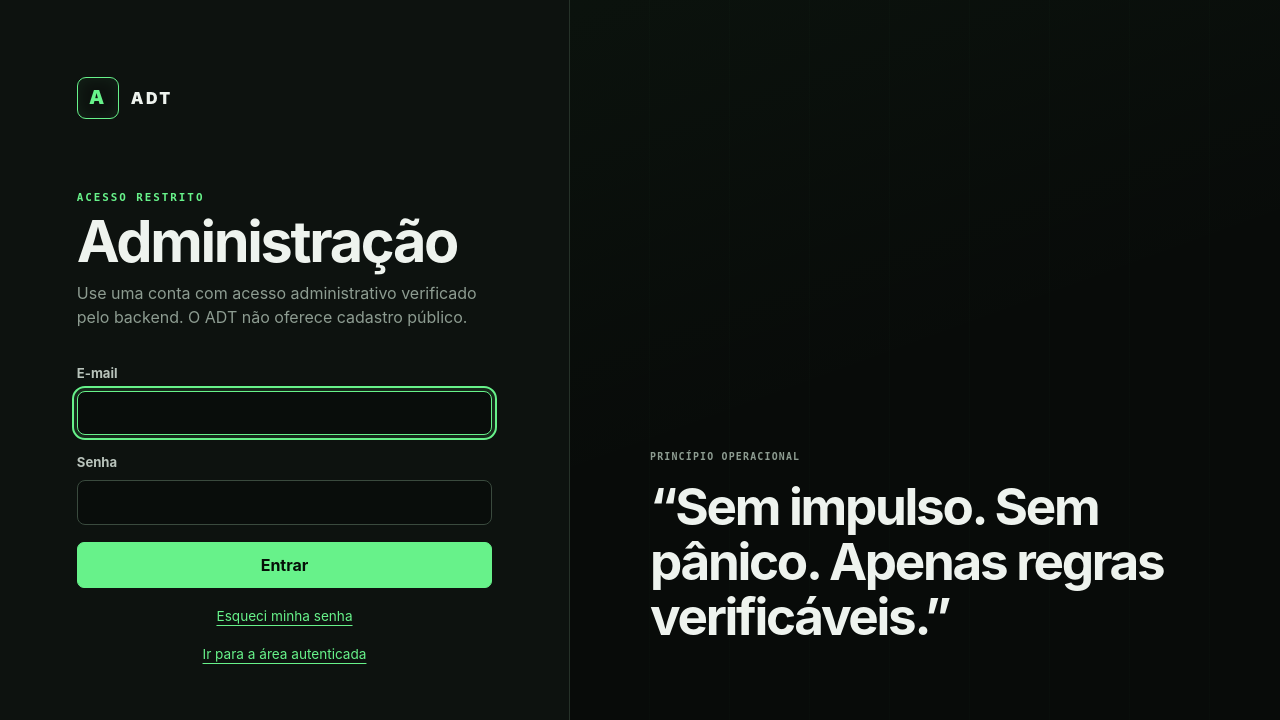
it: autenticação e autorização › mantém a sessão de usuário autenticado sem permissão administrativa
Type "user@example.com" into the field labelled "E-mail" at (284, 413), box [77, 391, 492, 435]
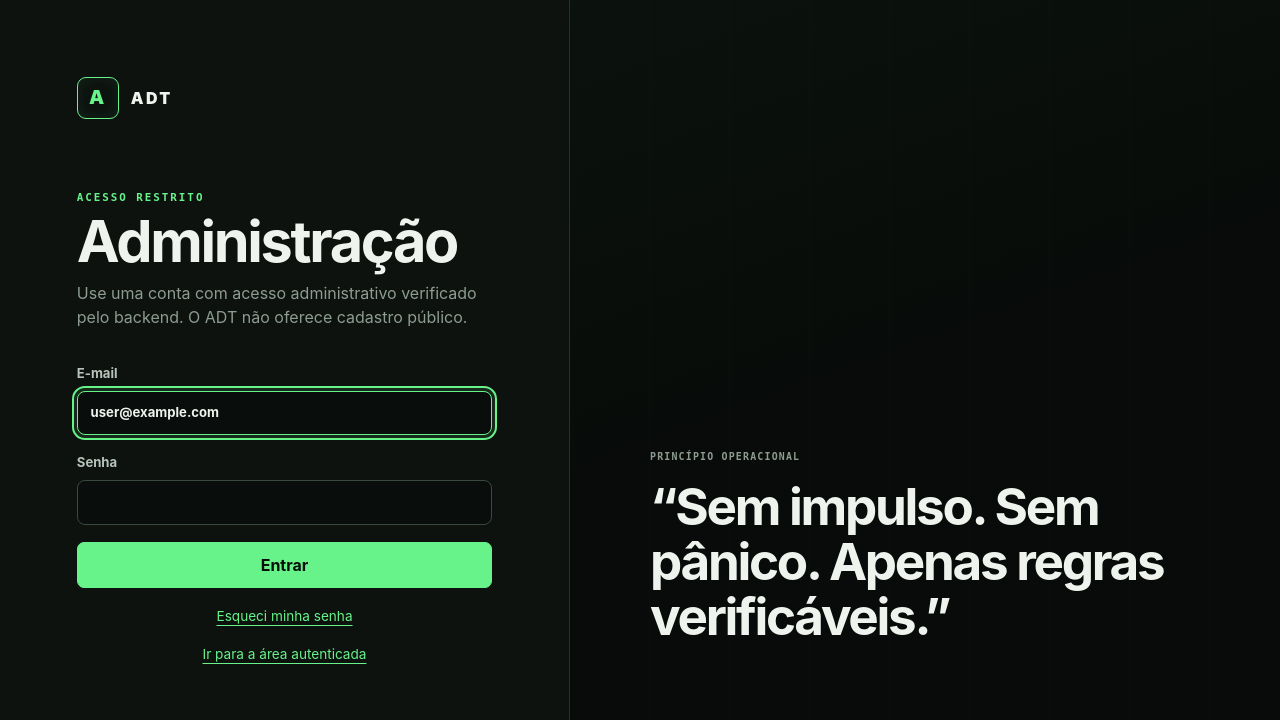
Type "senha-valida" into the password field labelled "Senha" at (284, 502), box [77, 480, 492, 524]
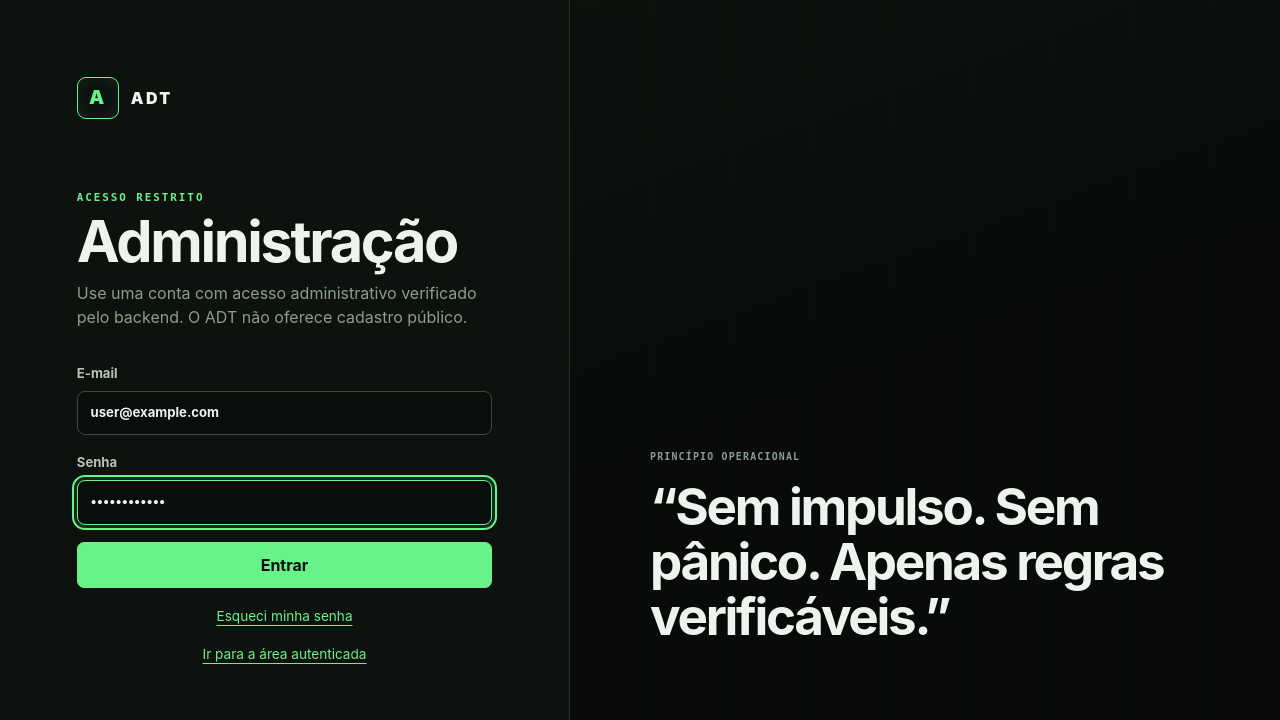
Click the button "Entrar" at (284, 565), box [77, 542, 492, 588]
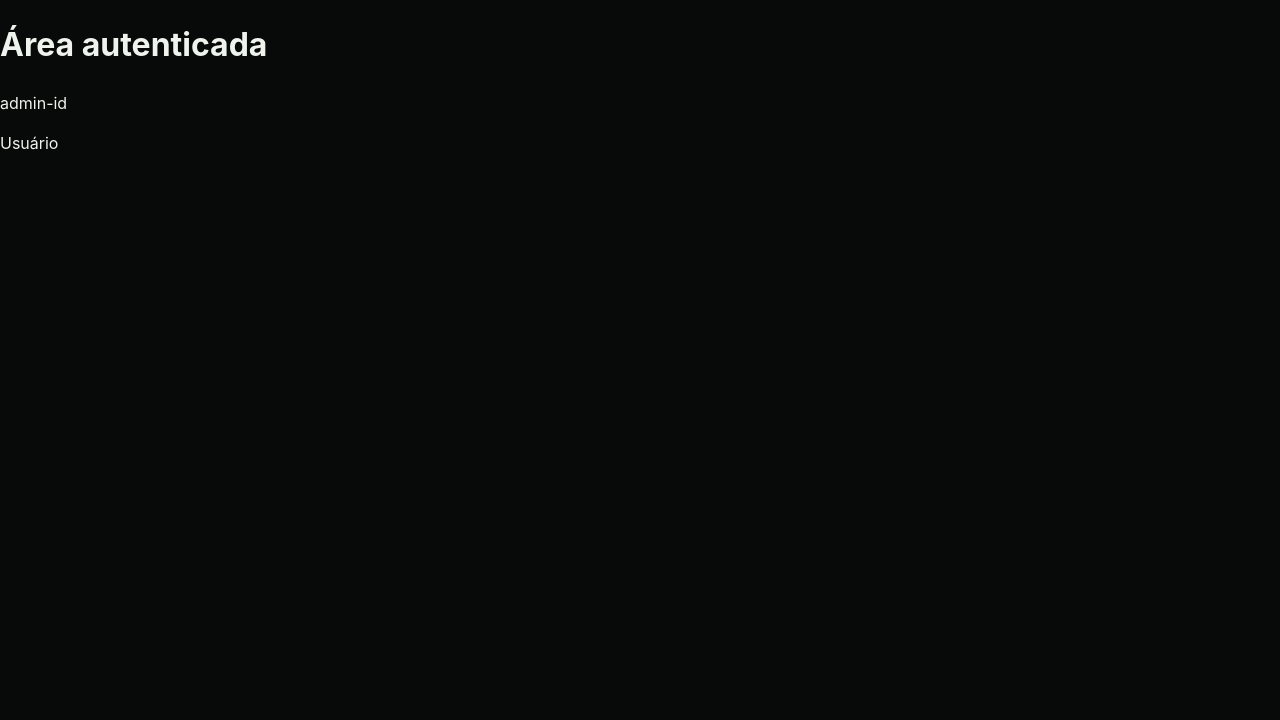
Now the heading "Área autenticada" is shown, box [0, 25, 267, 64]
Now the text "Usuário" is shown, box [0, 133, 58, 153]
